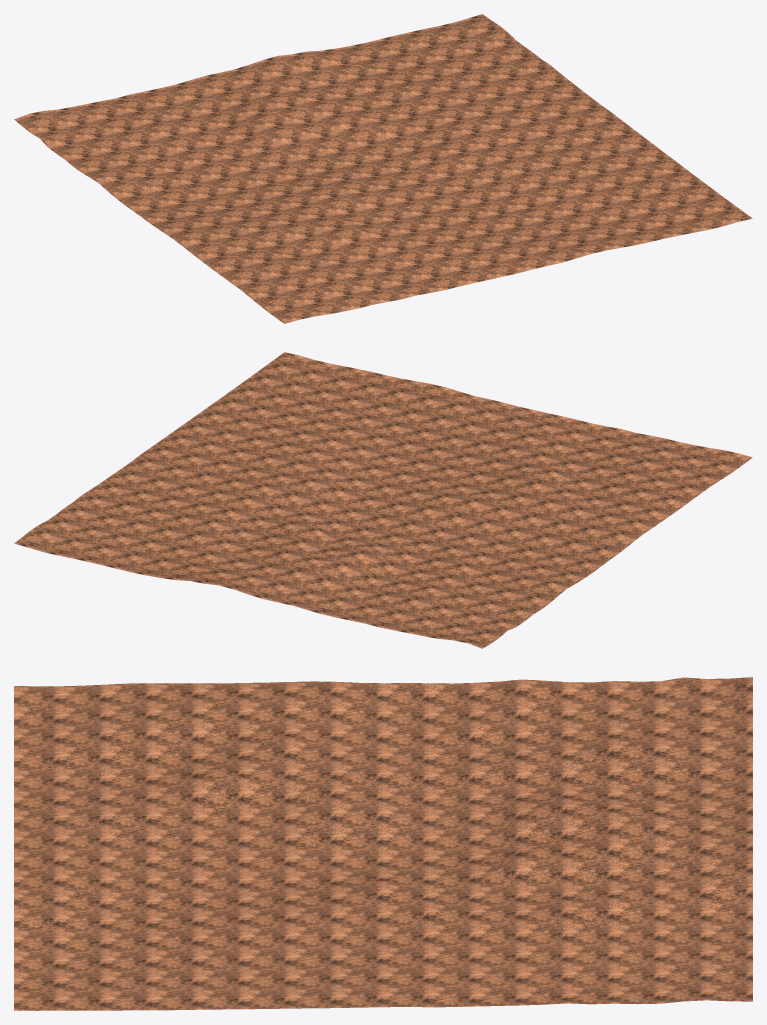
The model's file is terrain_01_04.dae.
3 views of the same model, one above another, from view 1: azimuth 30°, elevation 25°; view 2: azimuth 150°, elevation 25°; view 3: azimuth 270°, elevation 25° (orthographic). The views are drawn at different scales.
Parts seen in each view (by area): view 1: terrain_01_04-node; view 2: terrain_01_04-node; view 3: terrain_01_04-node.
Boxes of the visible parts, box(x1,y1,x2,y2) form: terrain_01_04-node: box(14, 14, 752, 323); terrain_01_04-node: box(14, 352, 752, 648); terrain_01_04-node: box(14, 677, 752, 1010).
Bounding box in the file's own units: 128 × 128 × 4.69.
1 material, 1 textured.
